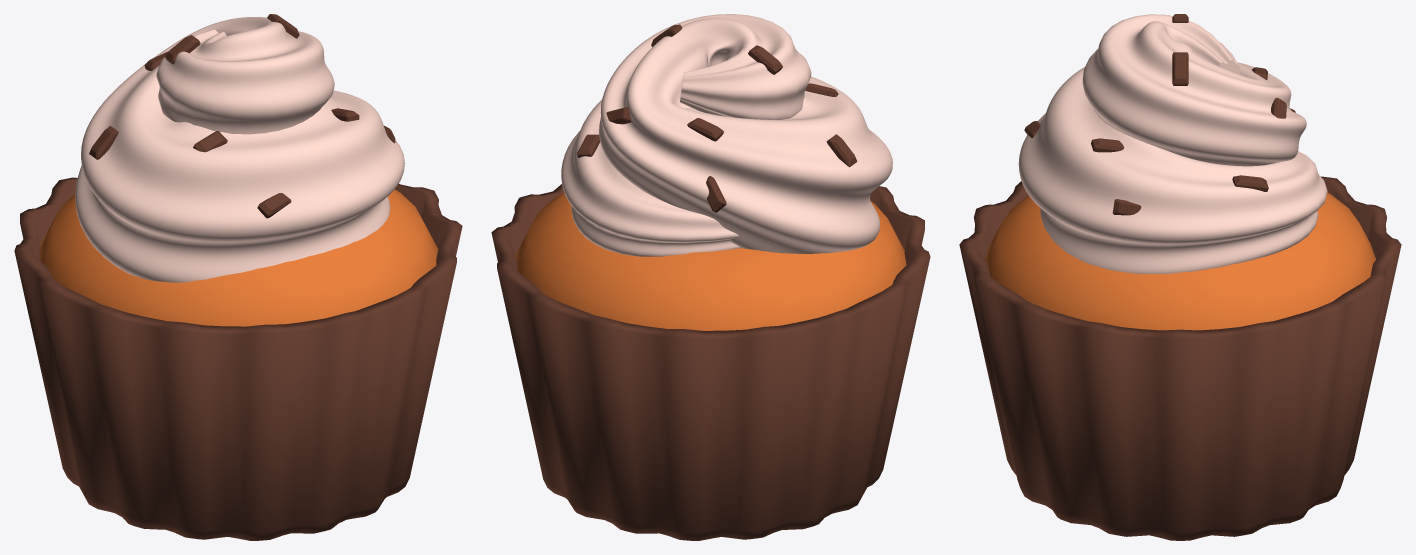
File: Cupcake_Chocolate.fbx
3 views of the same model, side by side, from view 1: azimuth 30°, elevation 25°; view 2: azimuth 150°, elevation 25°; view 3: azimuth 270°, elevation 25° (orthographic). The views are drawn at different scales.
Visible parts, largest first — view 1: Cupcake_Chocolate; view 2: Cupcake_Chocolate; view 3: Cupcake_Chocolate.
Part boxes in pixels (box(x1,y1,x2,y2)): Cupcake_Chocolate: box(14, 14, 462, 540); Cupcake_Chocolate: box(491, 14, 930, 540); Cupcake_Chocolate: box(959, 14, 1401, 540).
Size of the model in its own units: 252 by 280 by 252.
